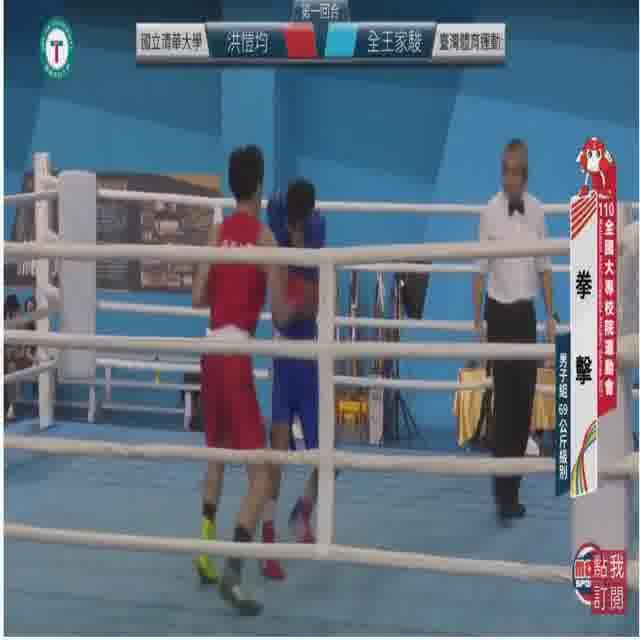blue-player: (258, 176, 338, 584)
red-player: (188, 145, 309, 620)
referee: (470, 132, 556, 529)
